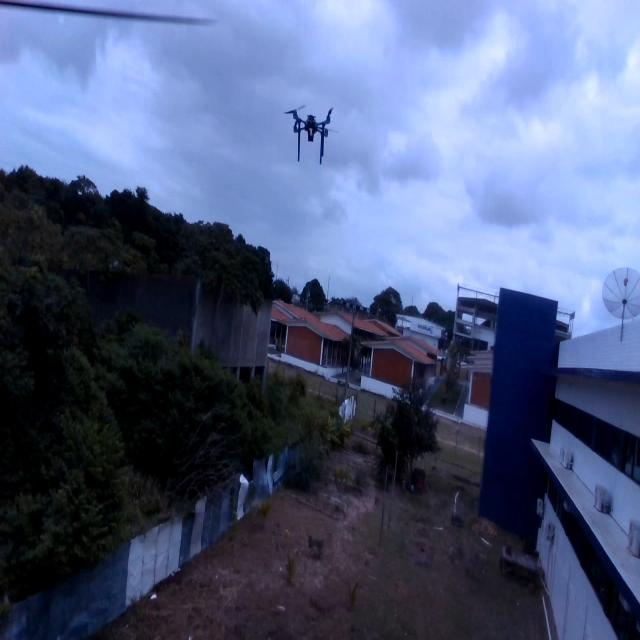-uav-: (281, 89, 339, 172)
